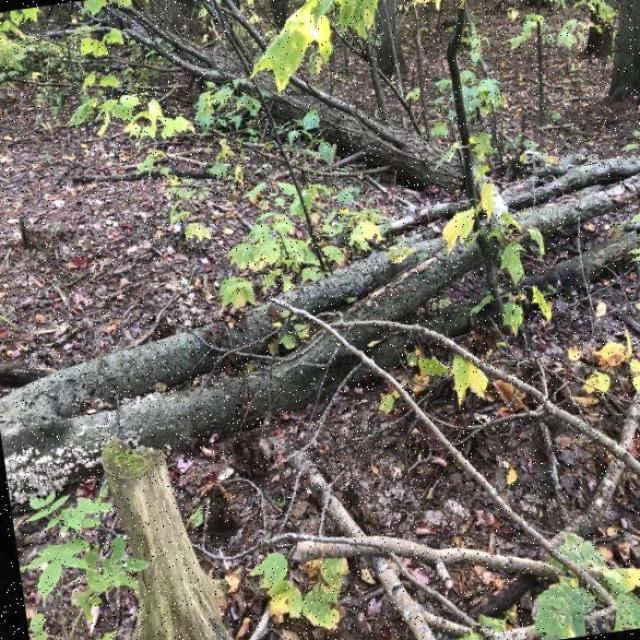fallen_object: (131, 0, 476, 232)
